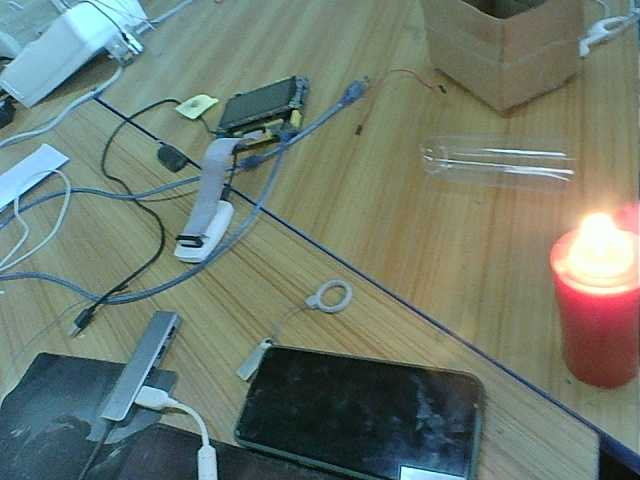candle: (551, 277, 640, 410)
fire: (539, 203, 638, 284)
